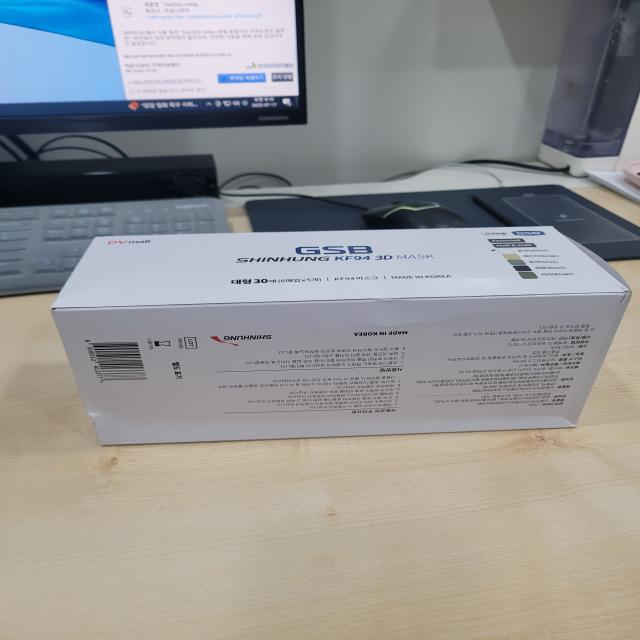mask: (20, 220, 640, 454)
